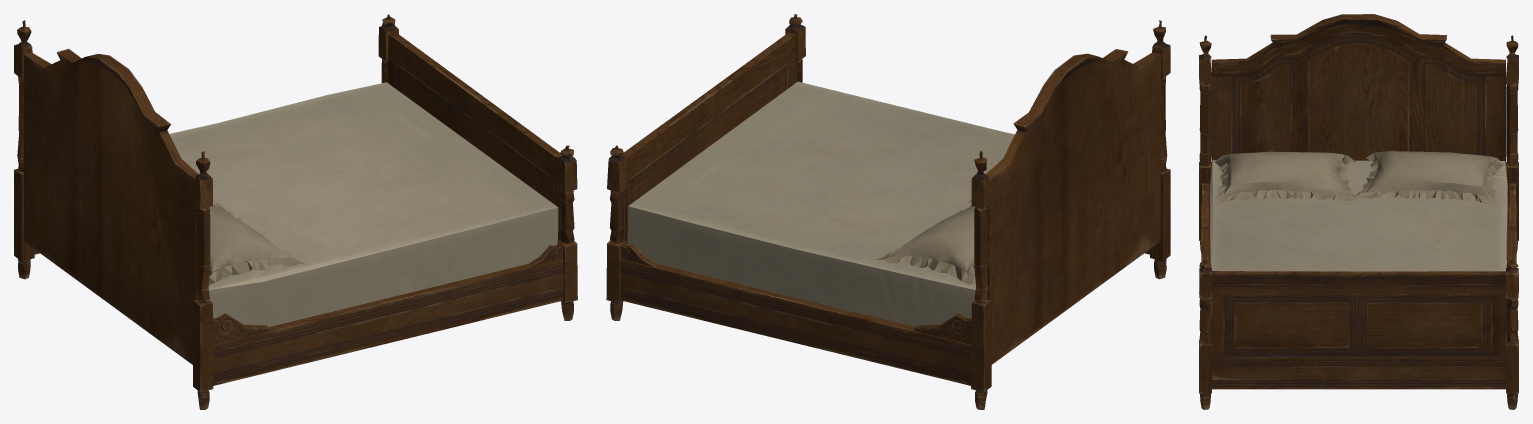
The model's file is bed-double-b.lod1.glb.
The picture shows the model from 3 angles, left to right: view 1: azimuth 30°, elevation 25°; view 2: azimuth 150°, elevation 25°; view 3: azimuth 270°, elevation 25°; orthographic projection. The views are drawn at different scales.
Visible parts, largest first — view 1: bed-double-b; view 2: bed-double-b; view 3: bed-double-b.
Boxes of the visible parts, x1,y1,x2,y2 form: bed-double-b: (14, 14, 577, 409); bed-double-b: (606, 14, 1170, 409); bed-double-b: (1199, 14, 1518, 409).
Bounding box in the file's own units: 2.26 × 1.6 × 1.94.
Materials: 2 (2 with a texture image).
